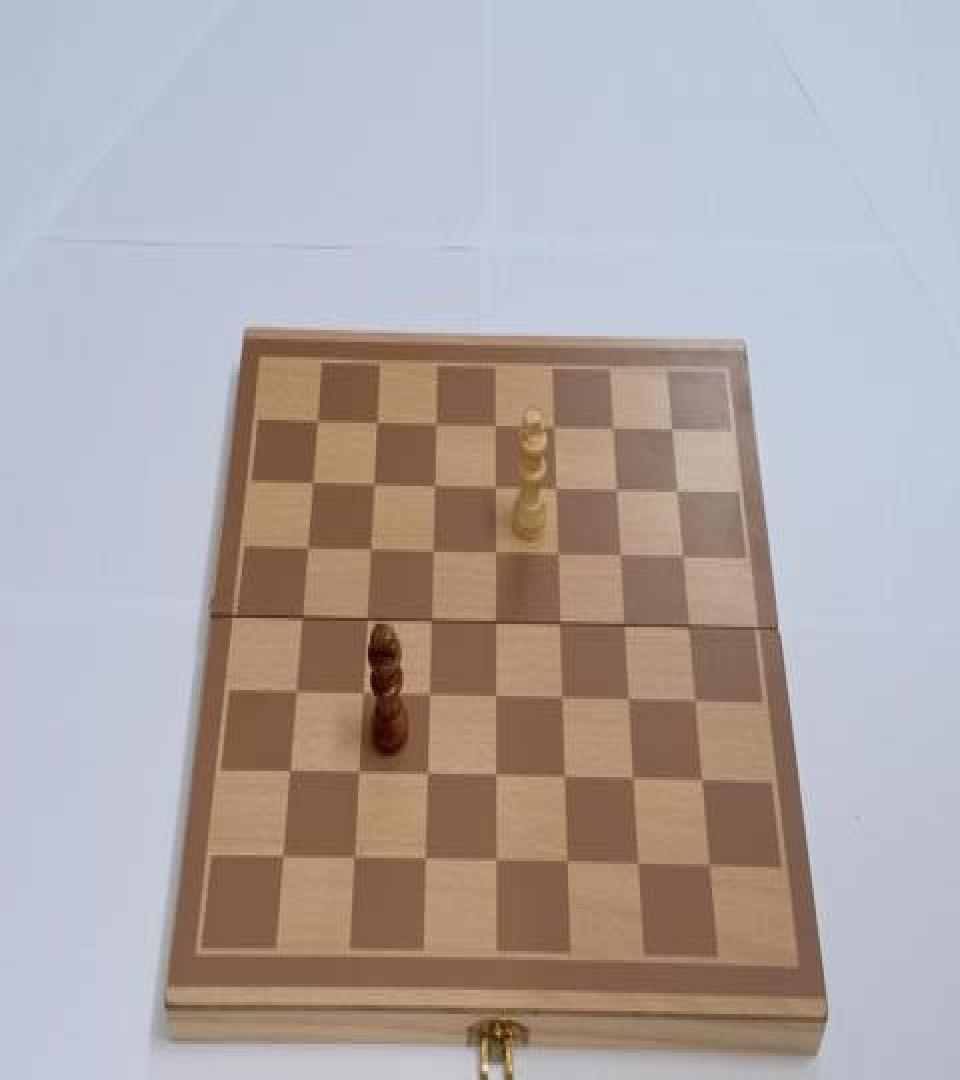xcorner: (308, 412, 326, 440), (366, 412, 384, 440), (303, 474, 321, 501), (297, 540, 315, 567), (291, 609, 309, 636), (285, 683, 303, 710), (279, 762, 297, 789), (272, 846, 290, 873), (363, 474, 381, 501), (359, 540, 377, 567), (355, 609, 373, 636), (351, 684, 369, 711), (347, 762, 365, 789), (342, 846, 360, 873), (425, 414, 443, 441), (420, 610, 438, 637), (418, 684, 436, 711), (484, 414, 502, 441), (484, 610, 502, 637), (484, 765, 502, 792), (484, 849, 502, 876), (543, 414, 561, 441), (549, 612, 567, 639), (551, 687, 569, 714), (553, 765, 571, 792), (556, 851, 574, 878), (603, 414, 621, 441), (606, 477, 624, 504), (610, 543, 628, 570), (614, 612, 632, 639), (618, 687, 636, 714), (623, 766, 641, 793), (627, 852, 645, 879), (662, 415, 680, 442), (668, 477, 686, 504), (673, 543, 691, 570), (685, 689, 703, 716), (692, 768, 710, 795), (423, 476, 441, 502), (422, 542, 440, 568), (416, 764, 434, 790), (413, 848, 431, 874), (484, 476, 502, 502), (484, 542, 502, 568), (484, 686, 502, 712), (545, 476, 563, 502), (547, 542, 565, 568), (679, 614, 697, 640), (699, 854, 717, 880)
